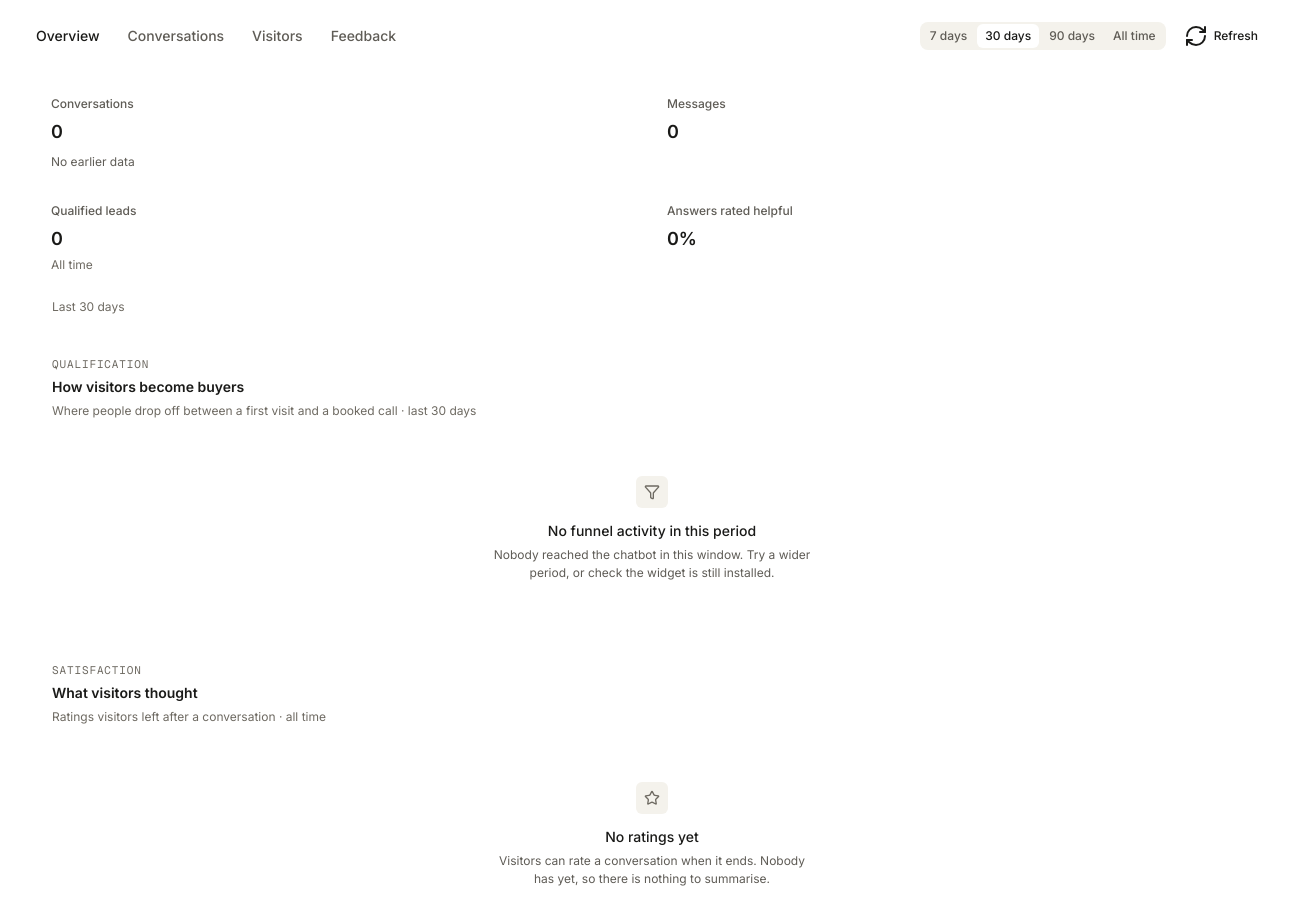
Scenario: AnalyticsPage › sends each view to its own path
Click the link "Visitors" at (277, 36), box [252,27,303,44]
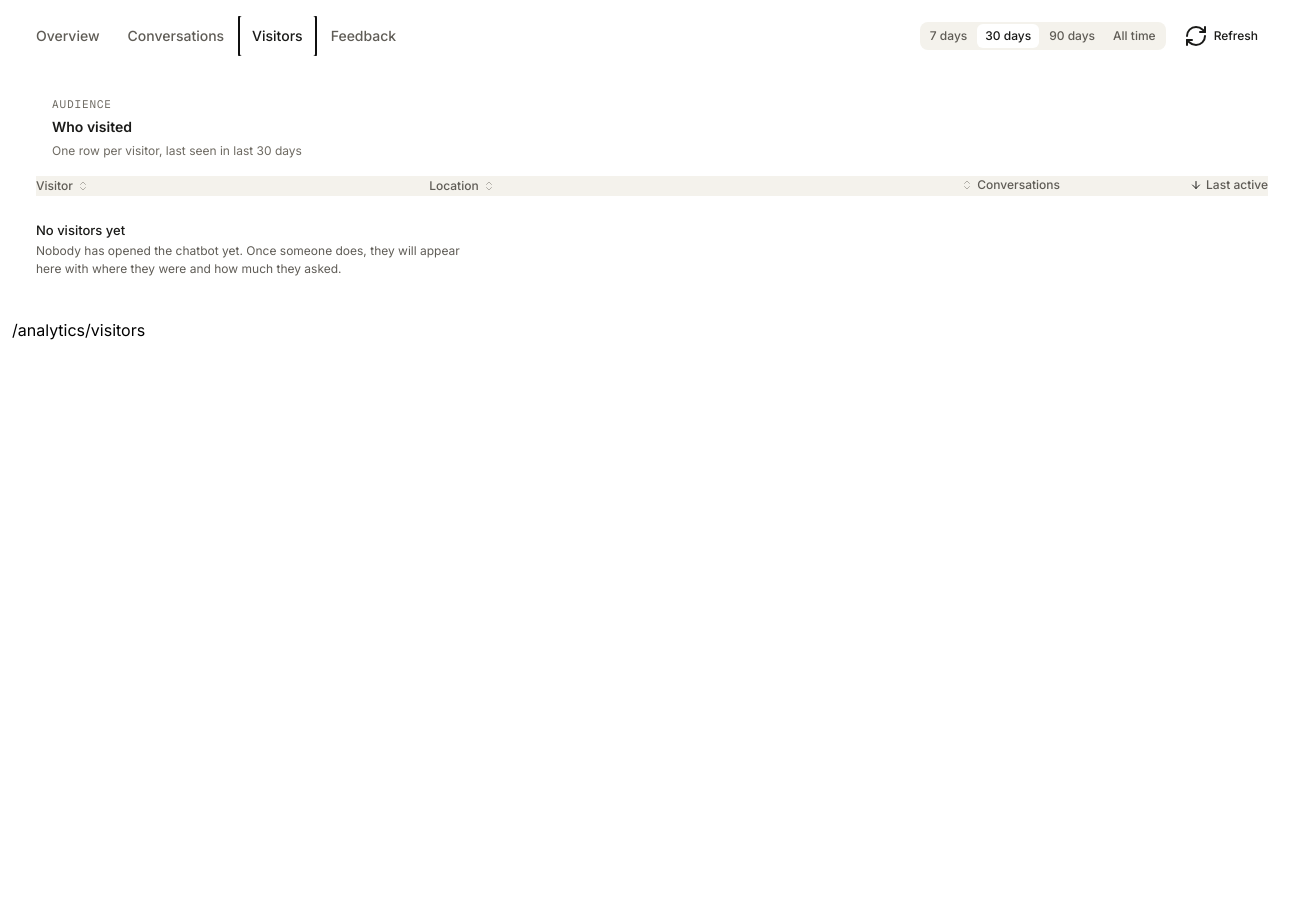
Check: the text with test id "url" reads "/analytics/visitors", box [12,320,145,340]
Click the link "Feedback" at (363, 36), box [331,27,396,44]
(page scrolled)
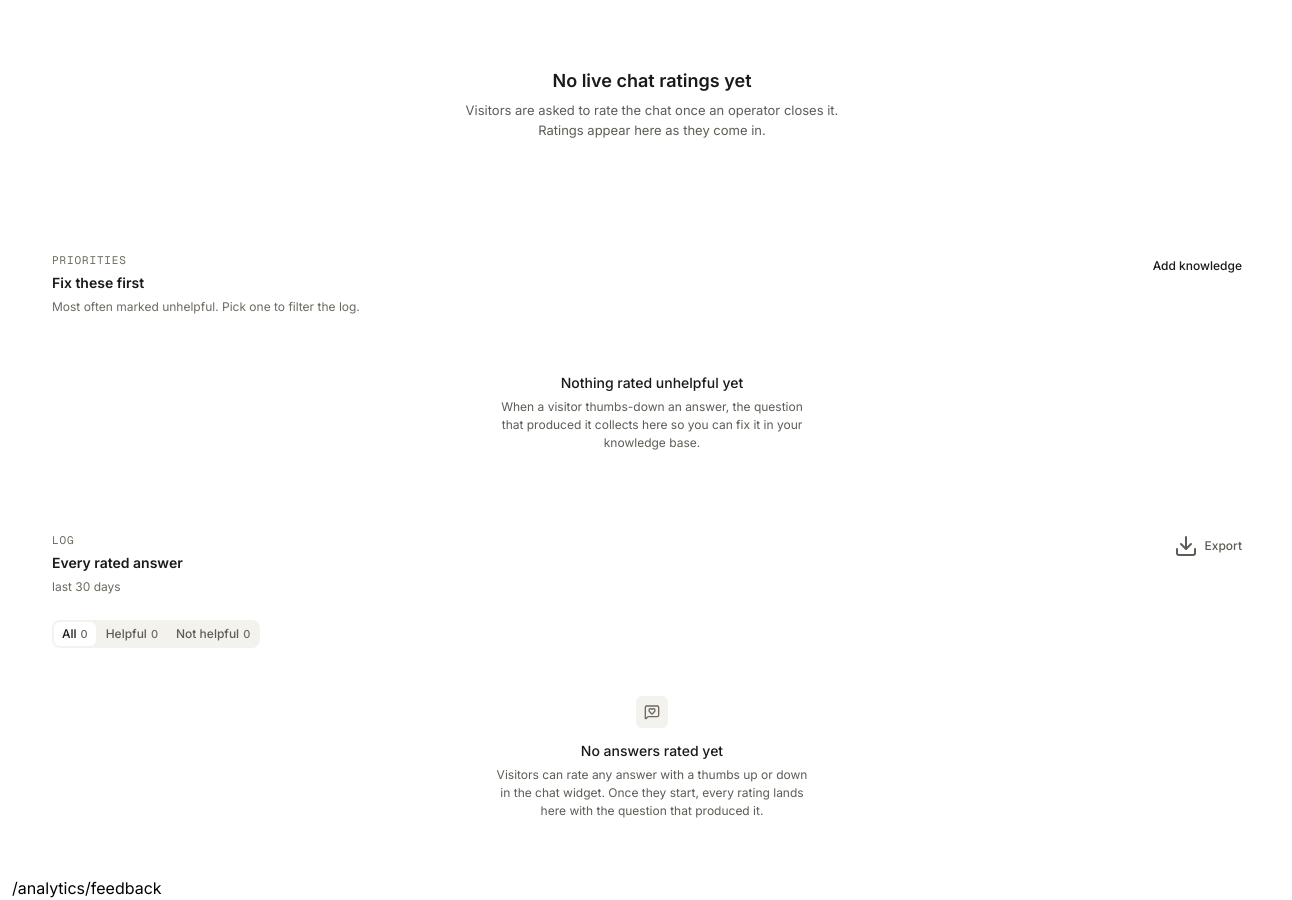
Check: the text with test id "url" reads "/analytics/feedback", box [12,878,162,898]
